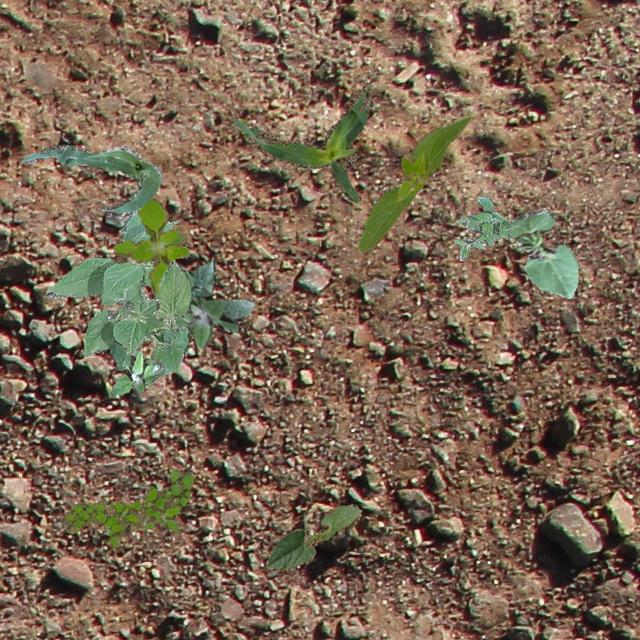crop: (46, 208, 176, 354), (230, 85, 370, 202), (356, 114, 469, 250), (18, 143, 160, 214), (506, 208, 578, 298), (264, 504, 360, 570), (147, 258, 190, 372), (174, 258, 213, 320)
weed: (61, 468, 192, 546), (114, 196, 188, 294), (174, 296, 254, 348), (452, 194, 508, 260), (108, 340, 166, 396)
